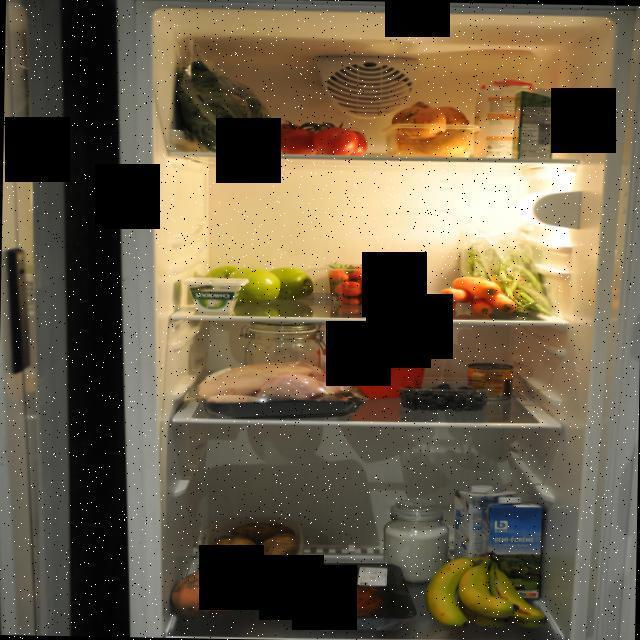apple: (202, 264, 318, 304)
banana: (427, 546, 544, 636)
beef: (302, 570, 388, 618)
blueberries: (396, 378, 489, 411)
butter: (324, 343, 431, 400)
carrot: (434, 274, 526, 318), (364, 292, 434, 316)
chicken: (188, 354, 370, 421)
corn: (462, 364, 514, 404)
flour: (240, 315, 332, 387)
goat_cheese: (187, 274, 247, 314)
green_beans: (446, 228, 552, 322)
heavy_cream: (514, 90, 559, 159)
milk: (477, 494, 547, 606), (450, 482, 516, 576)
onion: (388, 96, 482, 161)
potato: (200, 519, 302, 560)
spinach: (169, 38, 291, 158)
strawberries: (327, 256, 401, 308)
sugar: (381, 498, 448, 580), (474, 80, 532, 160)
sweet_potato: (173, 554, 296, 628)
tomato: (266, 116, 372, 158)
